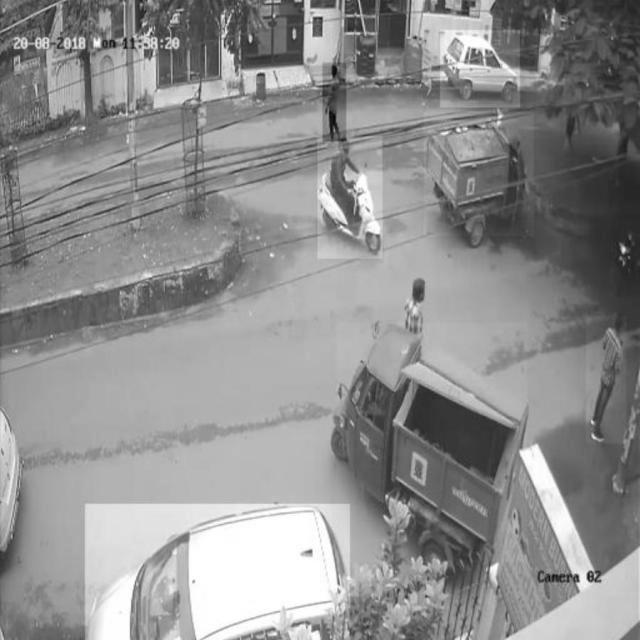person: (587, 316, 627, 444), (322, 63, 346, 141)
vehicle: (336, 323, 526, 563), (85, 504, 349, 640), (424, 111, 534, 235), (317, 136, 383, 258), (440, 31, 521, 108)
